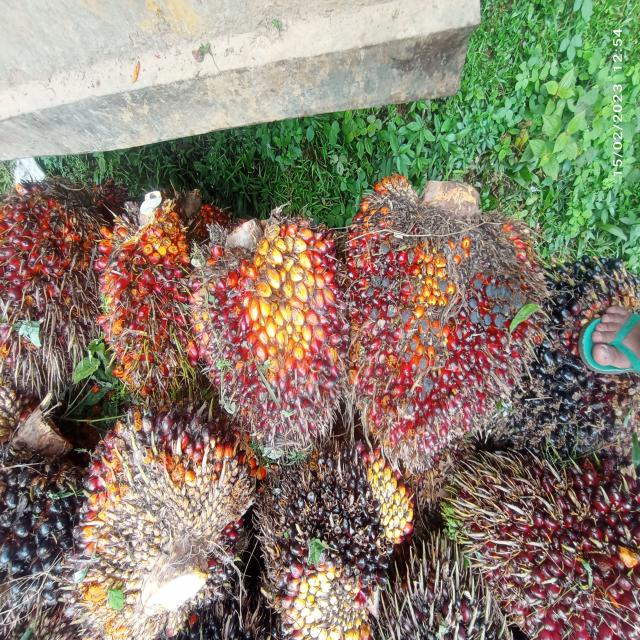fraksi 00: (64, 386, 260, 618), (245, 425, 419, 640)
fraksi 1: (435, 421, 640, 640)
fraksi 3: (310, 141, 557, 503), (182, 153, 344, 468), (80, 153, 226, 433)
